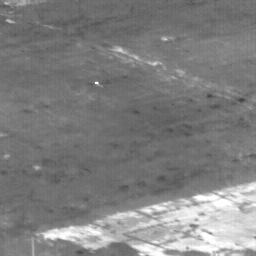aircraft: (96, 82, 98, 84)
